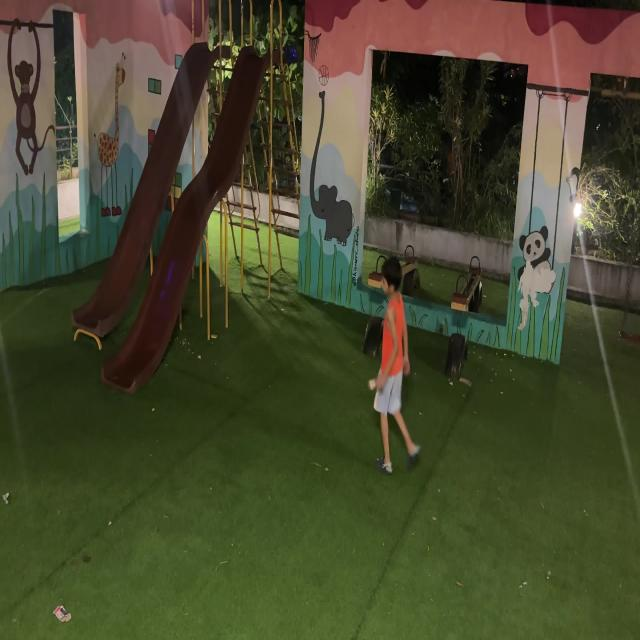human: (367, 253, 425, 474)
trash: (364, 360, 385, 397)
